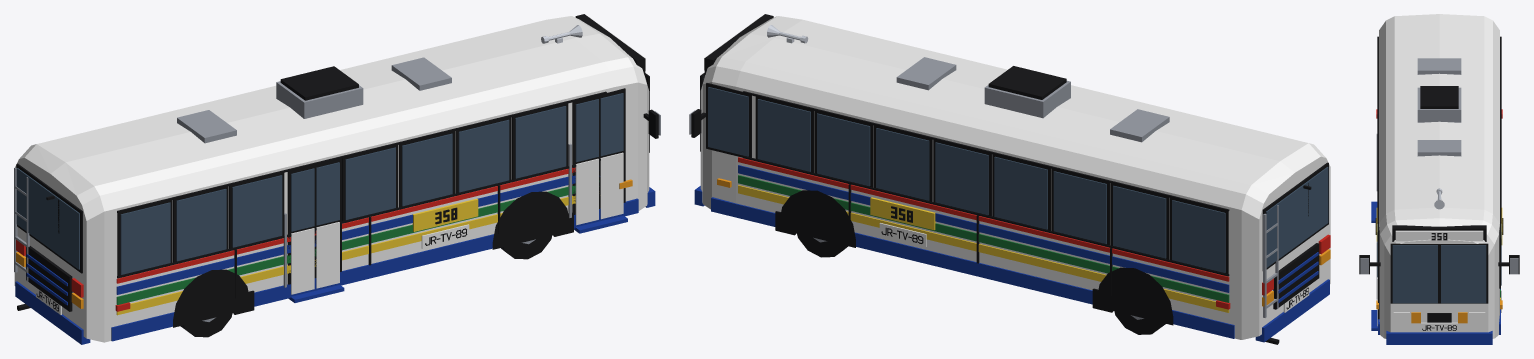
File: micro_multicolor.obj
3 views of the same model, side by side, from view 1: azimuth 30°, elevation 25°; view 2: azimuth 150°, elevation 25°; view 3: azimuth 270°, elevation 25° (orthographic). The views are drawn at different scales.
Parts seen in each view (by area): view 1: micro_multicolor; view 2: micro_multicolor; view 3: micro_multicolor.
Boxes of the visible parts, x1,y1,x2,y2 form: micro_multicolor: (14,14,660,344); micro_multicolor: (689,14,1330,344); micro_multicolor: (1359,14,1519,344).
Bounding box in the file's own units: 10.8 × 3.43 × 3.32.
